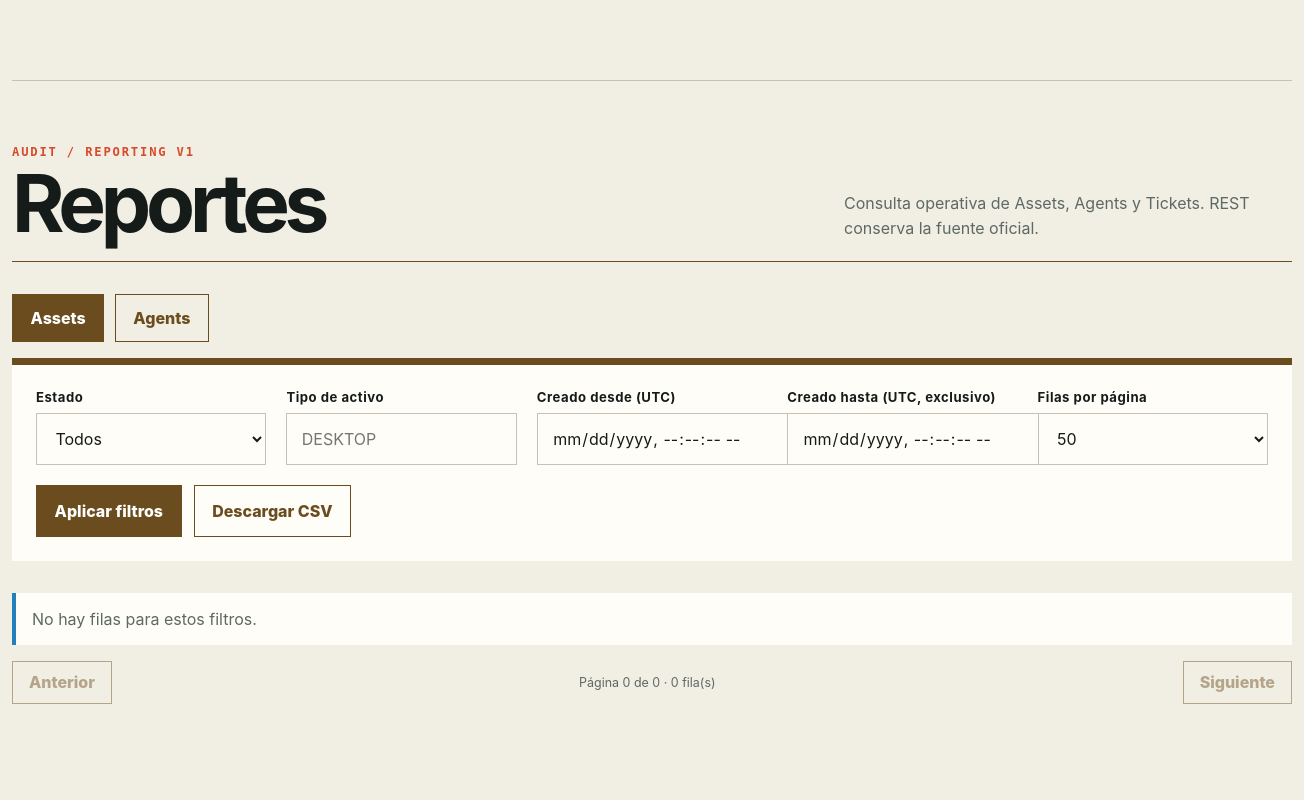
Test: ReportingWorkspace › shows differentiated export problem 422
Expected: the text "No hay filas para estos filtros." is shown, top-left (12, 593), bottom-right (1292, 645)
Click the button "Descargar CSV" at (272, 511), box top-left (194, 485), bottom-right (351, 537)
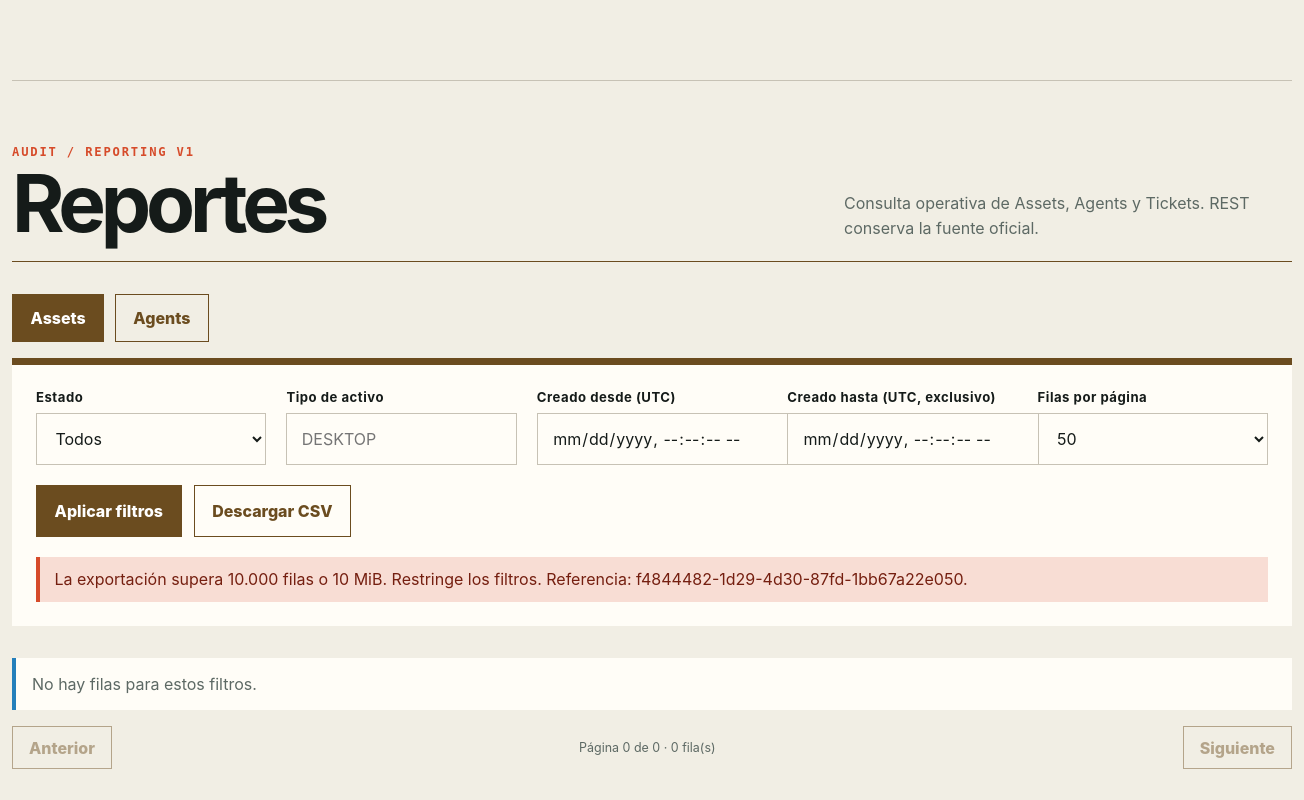
Now the message shows "supera 10.000 filas", box top-left (54, 569), bottom-right (968, 589)
Now the message shows "f4844482-1d29-4d30-87fd-1bb67a22e050", box top-left (54, 569), bottom-right (968, 589)
